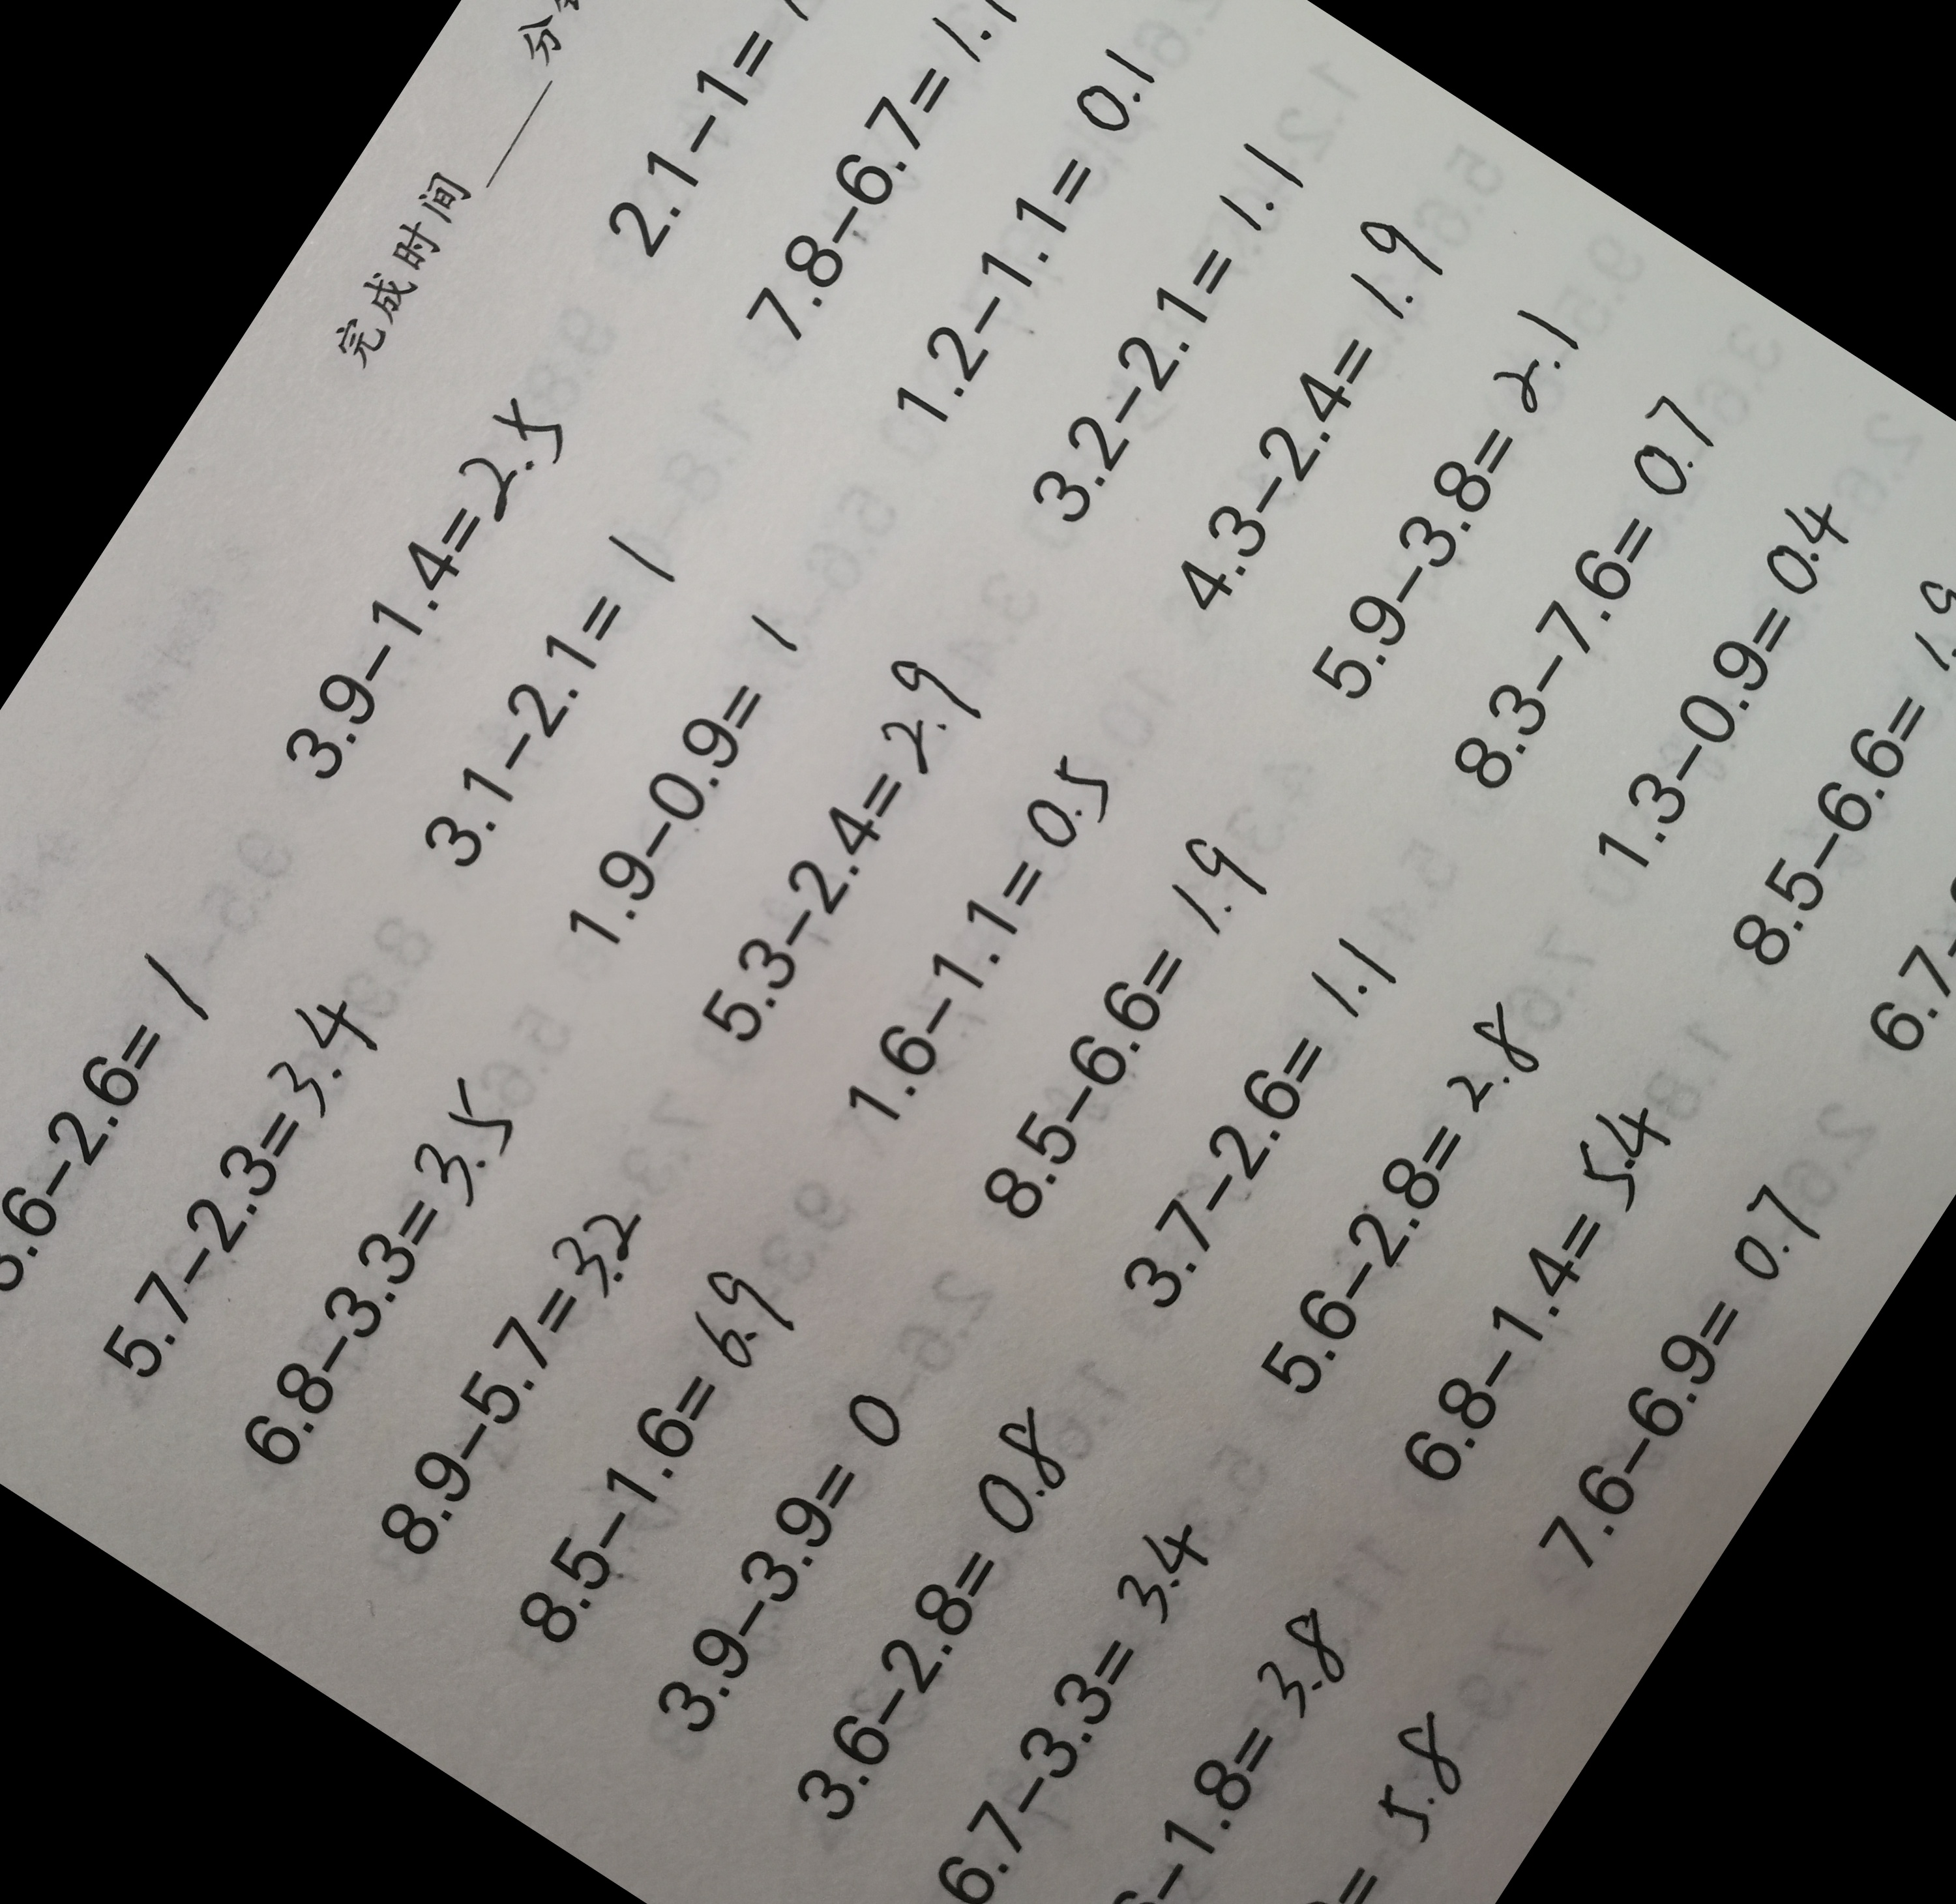equation: (278, 379, 564, 800), (789, 1401, 1074, 1824), (681, 646, 969, 1060), (1298, 293, 1577, 706), (933, 1497, 1216, 1904), (1540, 1167, 1822, 1576), (1165, 208, 1446, 615), (1254, 997, 1533, 1406), (882, 28, 1156, 433), (1441, 404, 1715, 809), (1395, 1093, 1668, 1497), (643, 1354, 919, 1752), (987, 833, 1263, 1226), (854, 741, 1125, 1137), (513, 1263, 786, 1652), (1588, 484, 1858, 875), (232, 1083, 501, 1476), (1029, 131, 1298, 524), (1125, 919, 1388, 1310), (103, 987, 368, 1375), (1717, 568, 1956, 973), (377, 1186, 634, 1553), (733, 0, 997, 353), (424, 512, 678, 877), (557, 589, 807, 954), (1078, 1604, 1352, 1904), (0, 950, 196, 1298), (596, 0, 844, 264), (1212, 1707, 1470, 1904), (1858, 648, 1956, 1055)
